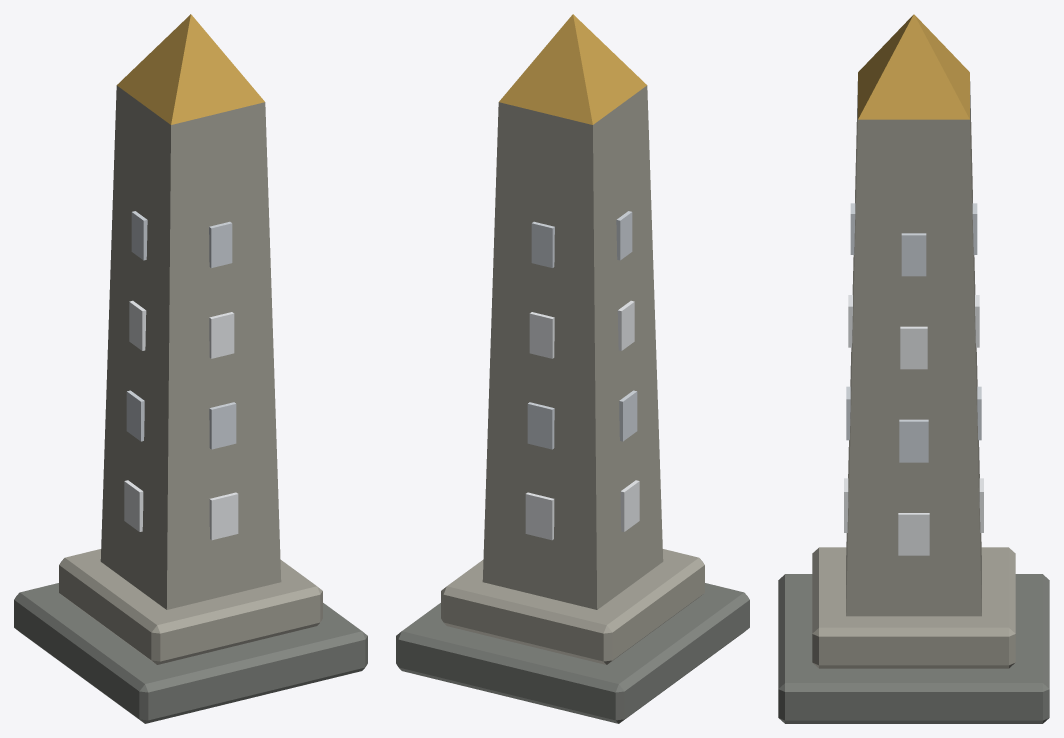
The model's file is Obelisk.obj.
3 renders of one model, left to right at view 1: azimuth 30°, elevation 25°; view 2: azimuth 150°, elevation 25°; view 3: azimuth 270°, elevation 25°, orthographic. The views are drawn at different scales.
Bounding box in the file's own units: 2.4 × 6.4 × 2.4.
